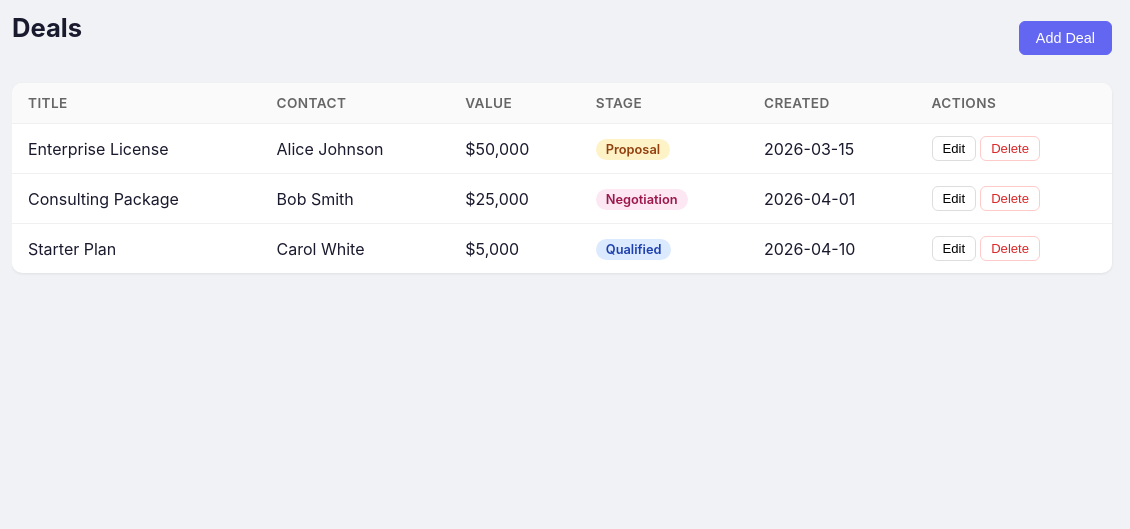
Scenario: Deals › adds a new deal
Click the button "Add Deal" at [1065, 38], box 1019,20 -> 1112,54
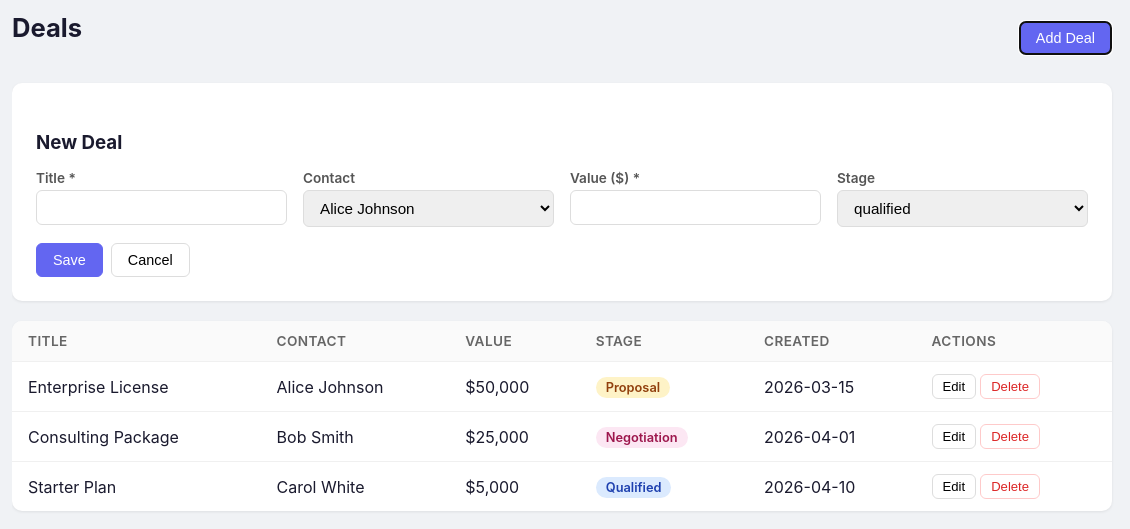
Type "Premium Support" into the field labelled "Title *" at [162, 208], box 36,190 -> 287,225
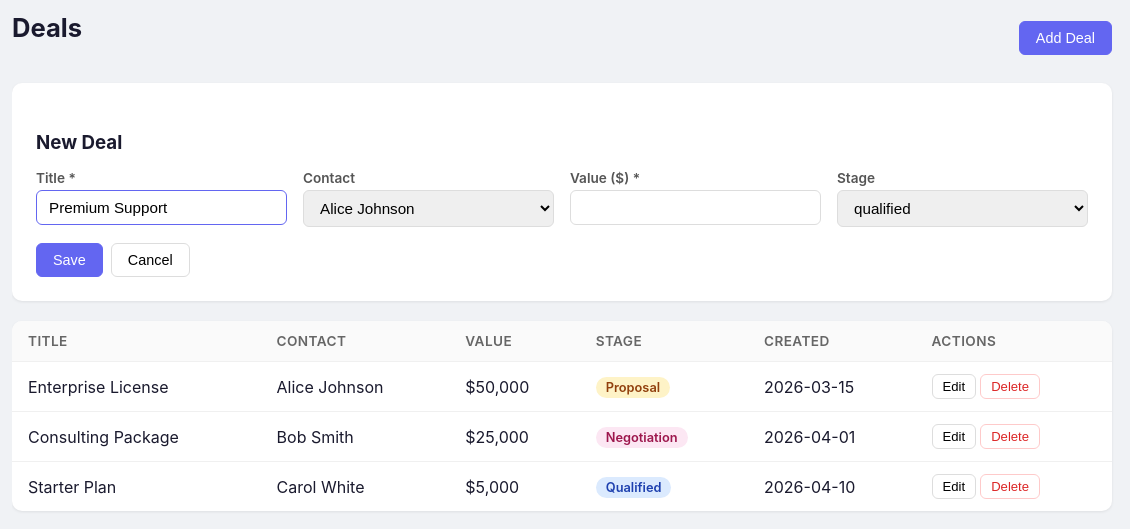
Type "15000" into the number field labelled "Value ($) *" at [696, 208], box 570,190 -> 821,225
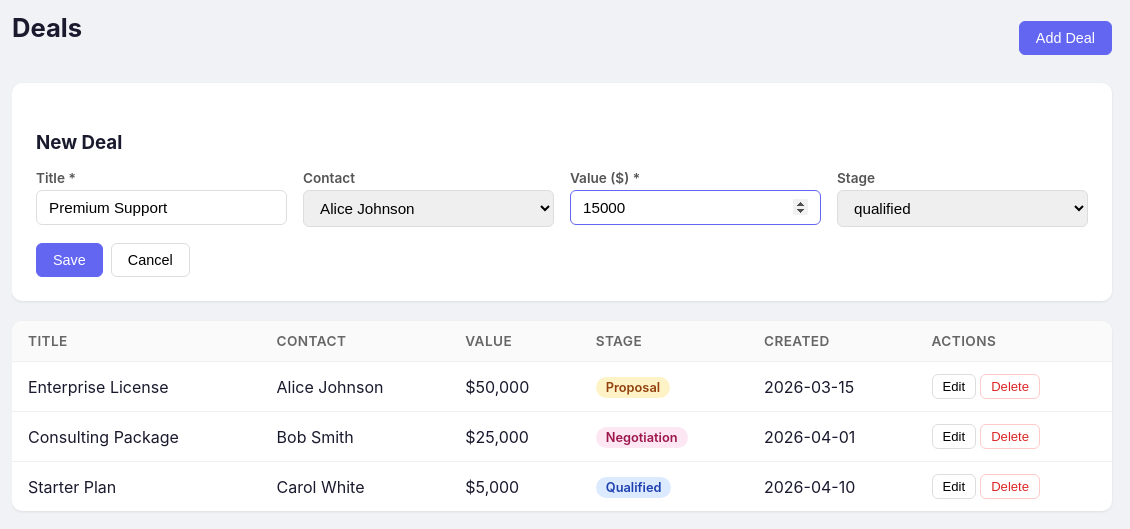
Click the button "Save" at [69, 260], box 36,243 -> 103,277
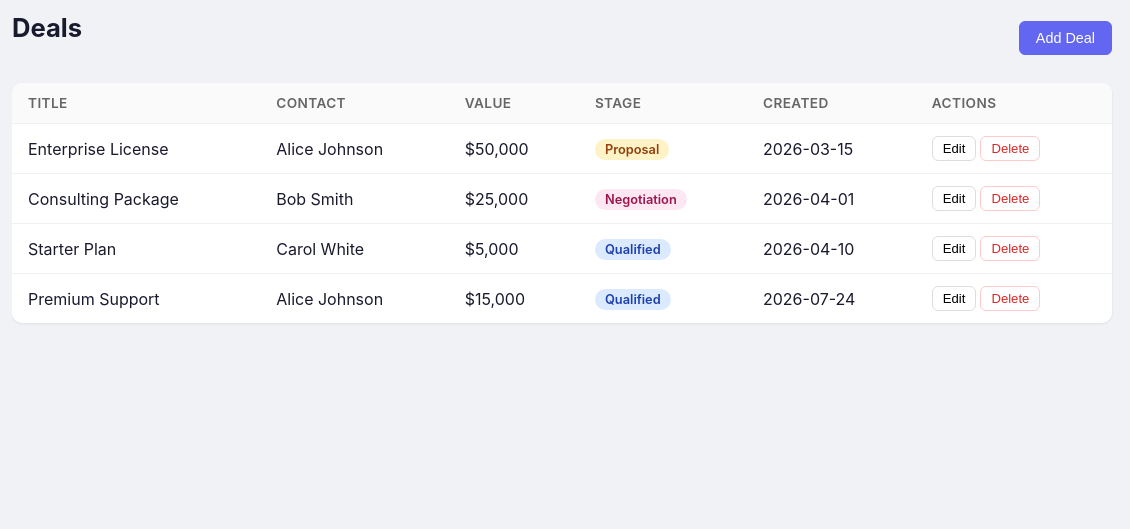
Expected: the text "Premium Support" is shown, 12,274 -> 260,323
